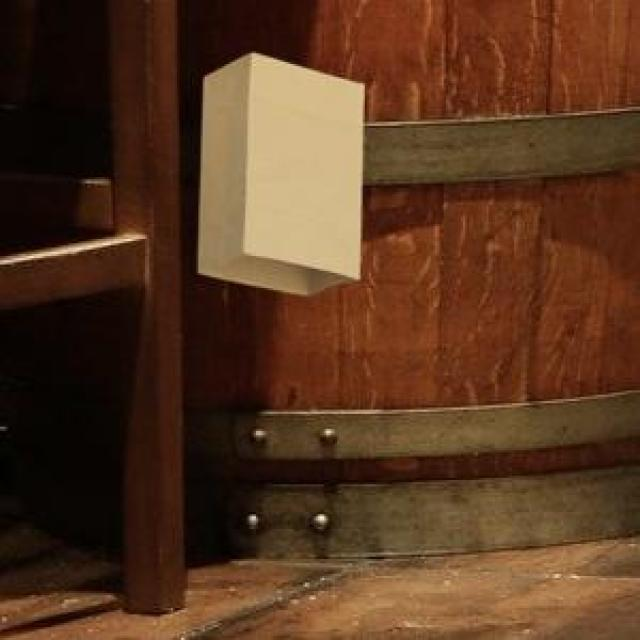paper: (194, 49, 361, 290)
